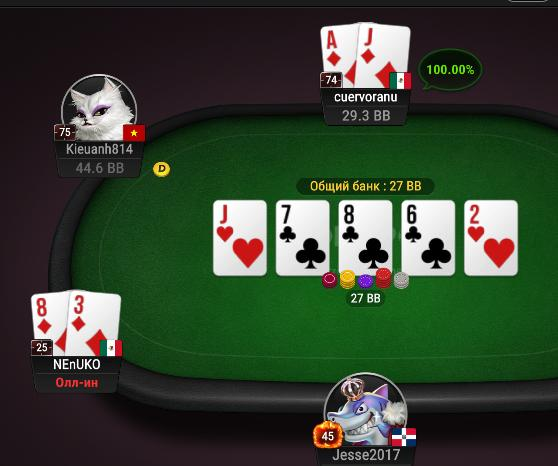2h: (466, 201, 518, 275)
3d: (69, 291, 119, 358)
6c: (403, 202, 454, 275)
7c: (275, 201, 330, 274)
8c: (340, 200, 392, 274)
8d: (30, 294, 71, 356)
Ad: (321, 23, 359, 88)
Jd: (359, 23, 409, 89)
Jh: (214, 201, 266, 277)
